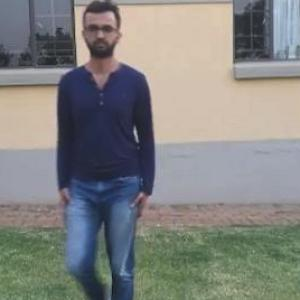follow: (50, 1, 152, 299)
